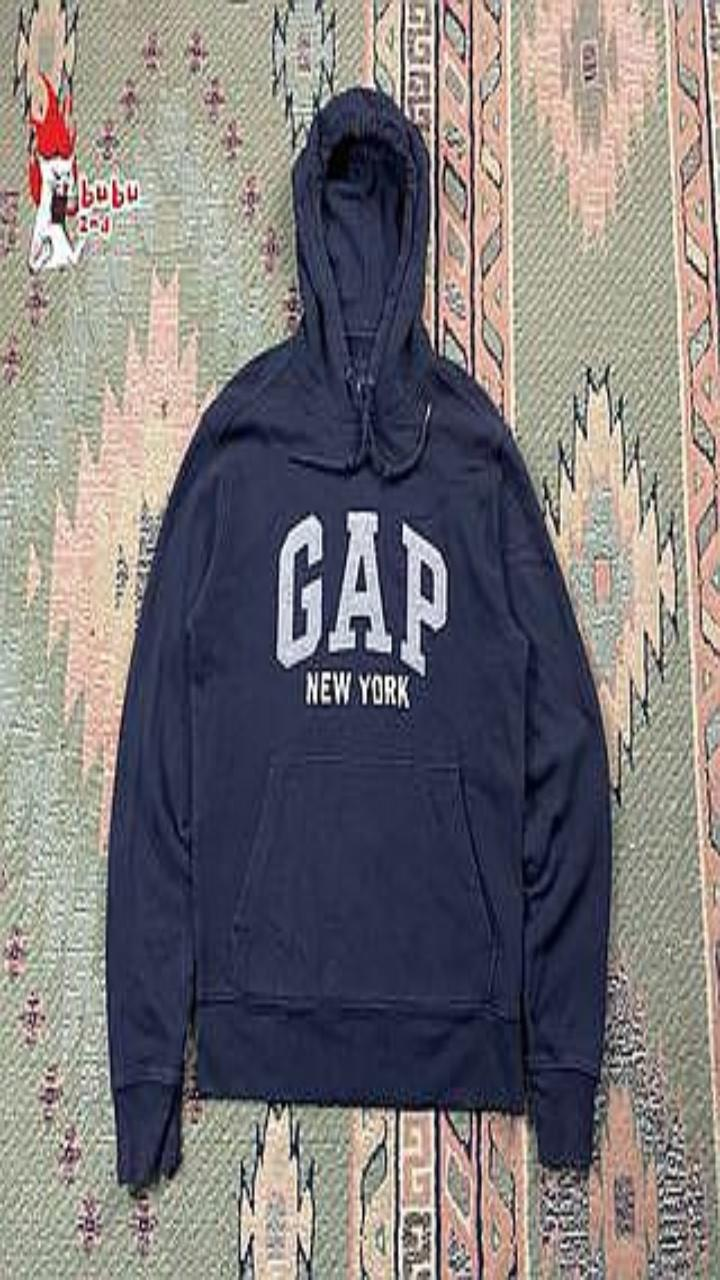Hoodie: (106, 87, 610, 1185)
